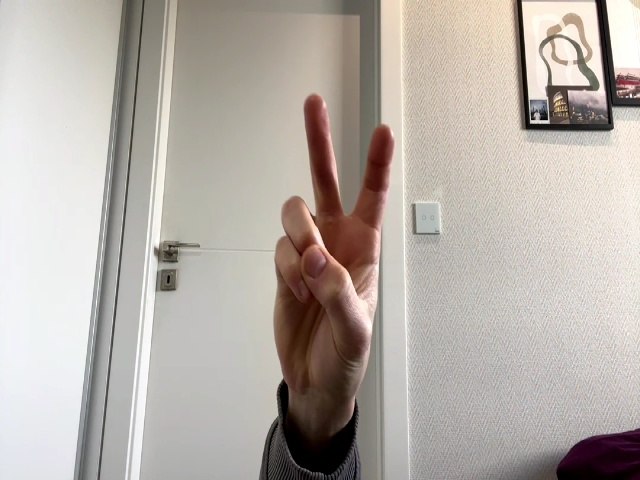H: (272, 94, 395, 402)
